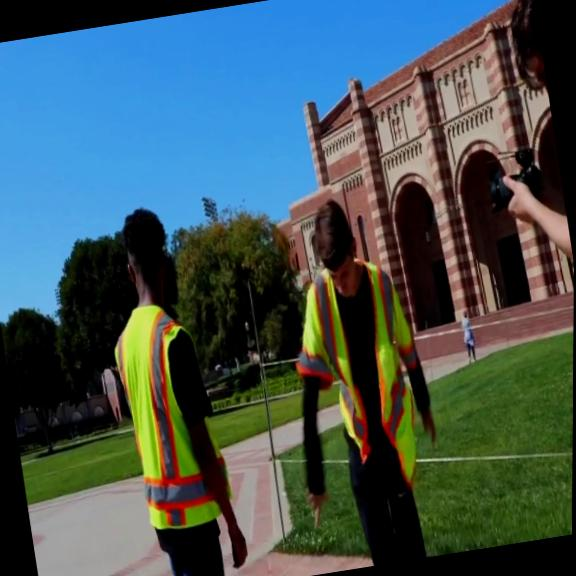safety_vest: (274, 256, 438, 503), (104, 295, 237, 536)
